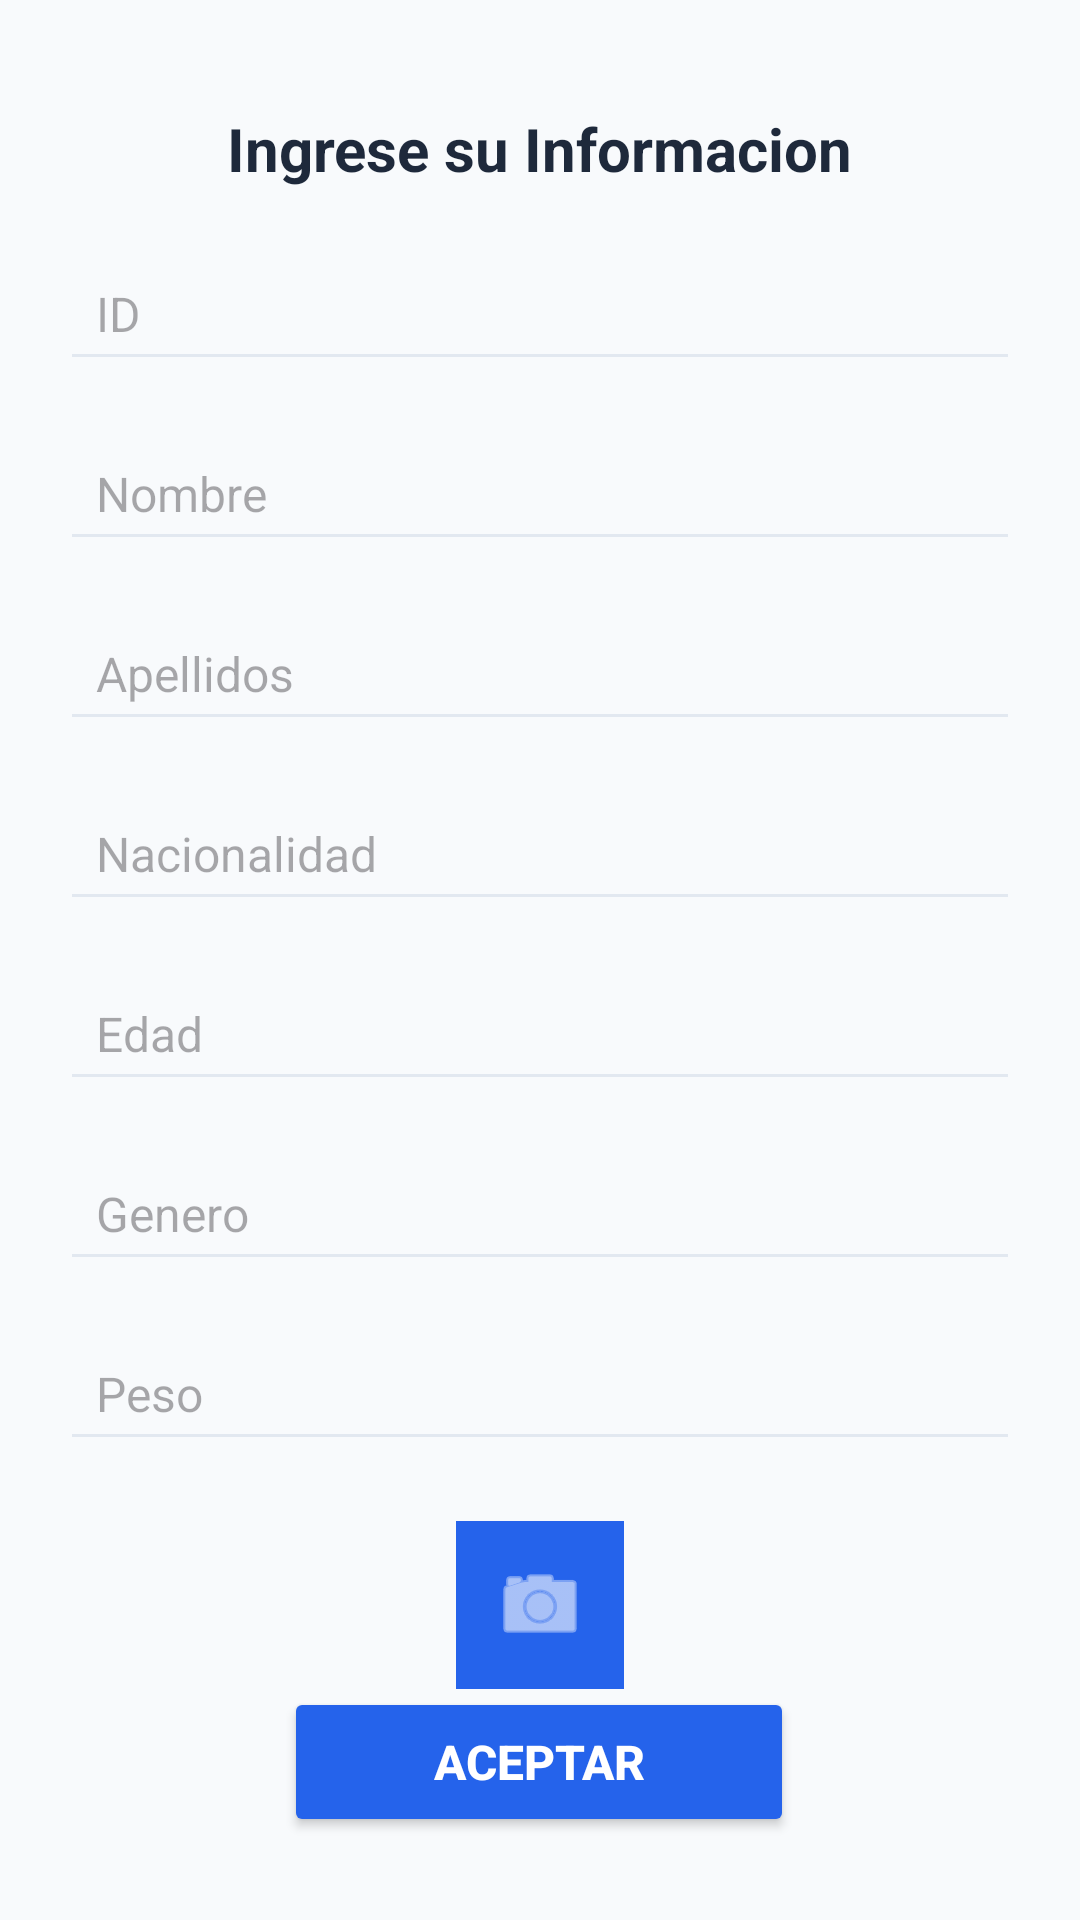

Locate icon controls on the screen. Image size 1080px x 1920px, boxes as (x1, y1, x2, y2).
camera: (456, 1521, 624, 1689)
